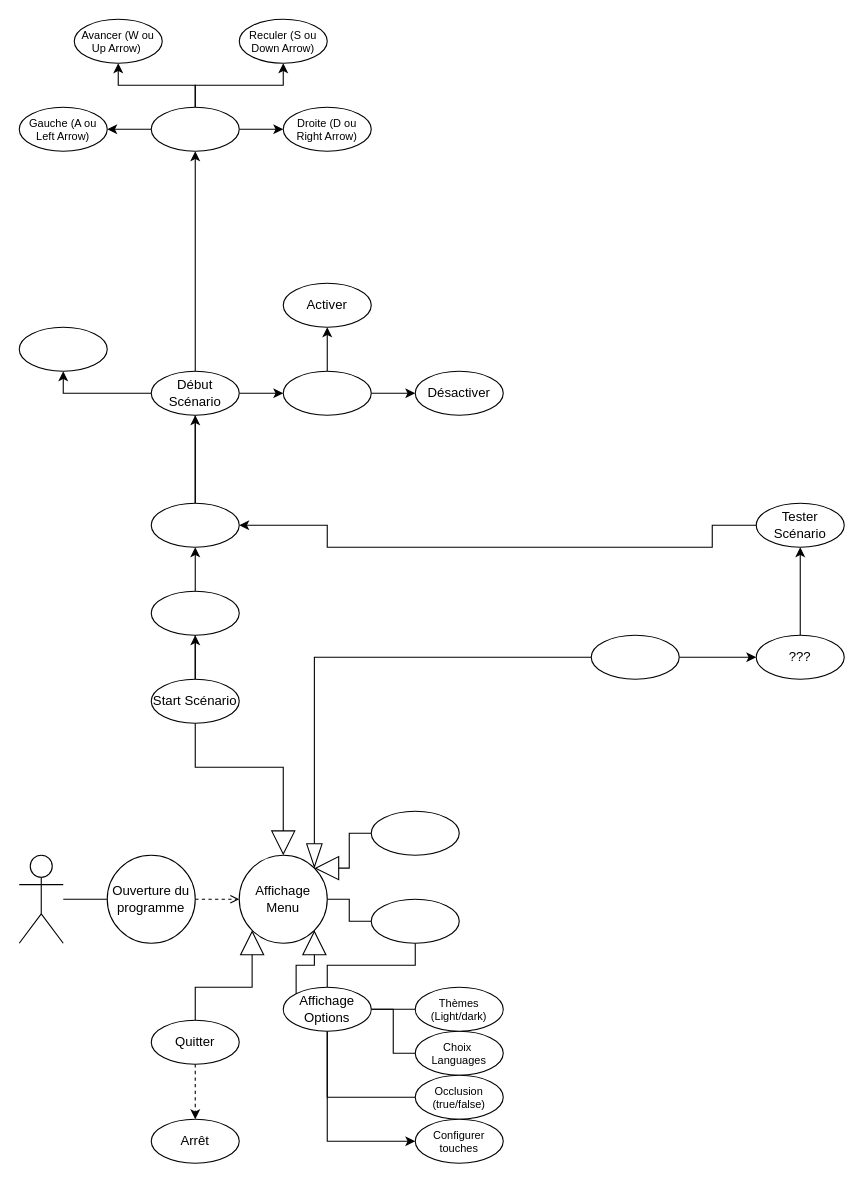
This 864x1183 diagram has some shape labels left out. Each missing label, with the centre of its shape:
Accepter/retour: pixel 414 920
Actor: pixel 40 898
Charger Scénario: pixel 194 524
Choix de Scénario: pixel 194 612
Dev Mode: pixel 634 656
Lien Github: pixel 414 832
Menu: pixel 62 348
Mouvement: pixel 194 128
Raytracing View: pixel 326 392
